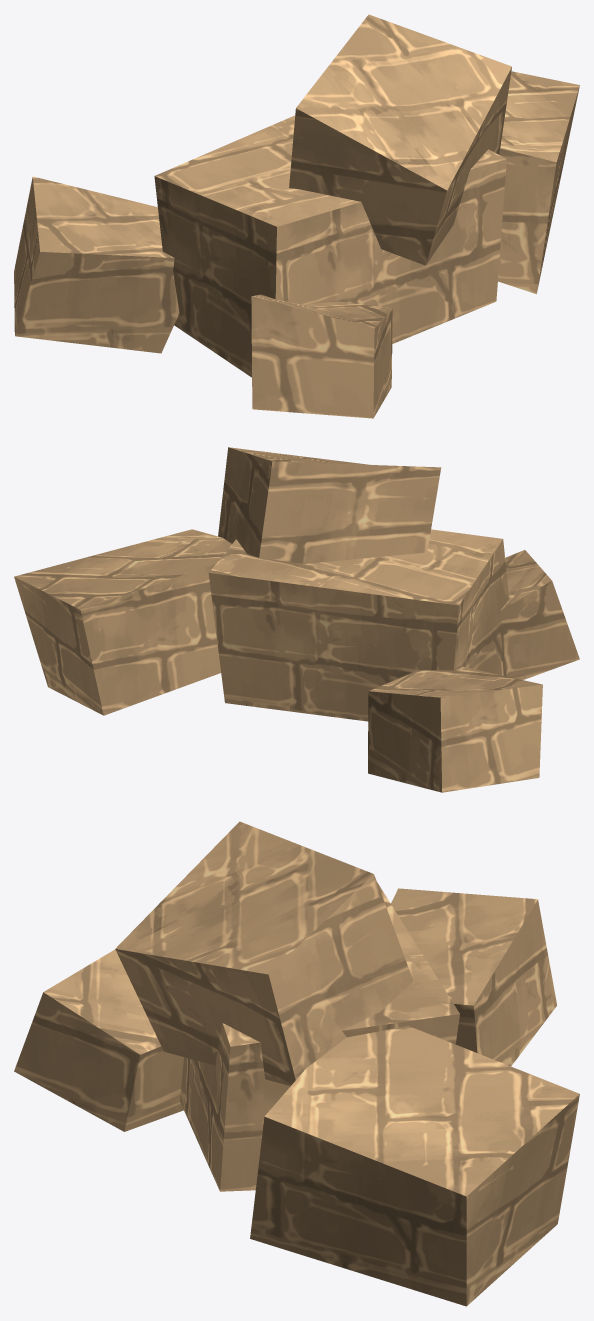
File: debris_pile.gltf
The picture shows the model from 3 angles, top to bottom: view 1: azimuth 30°, elevation 25°; view 2: azimuth 150°, elevation 25°; view 3: azimuth 270°, elevation 25°; orthographic projection. The views are drawn at different scales.
Visible parts, largest first — view 1: debris_pile; view 2: debris_pile; view 3: debris_pile.
Boxes of the visible parts, x1,y1,x2,y2 form: debris_pile: [14, 14, 579, 418]; debris_pile: [14, 447, 579, 792]; debris_pile: [14, 821, 579, 1306].
Size of the model in its own units: 2.12 by 0.987 by 1.58.
1 material, 1 textured.
